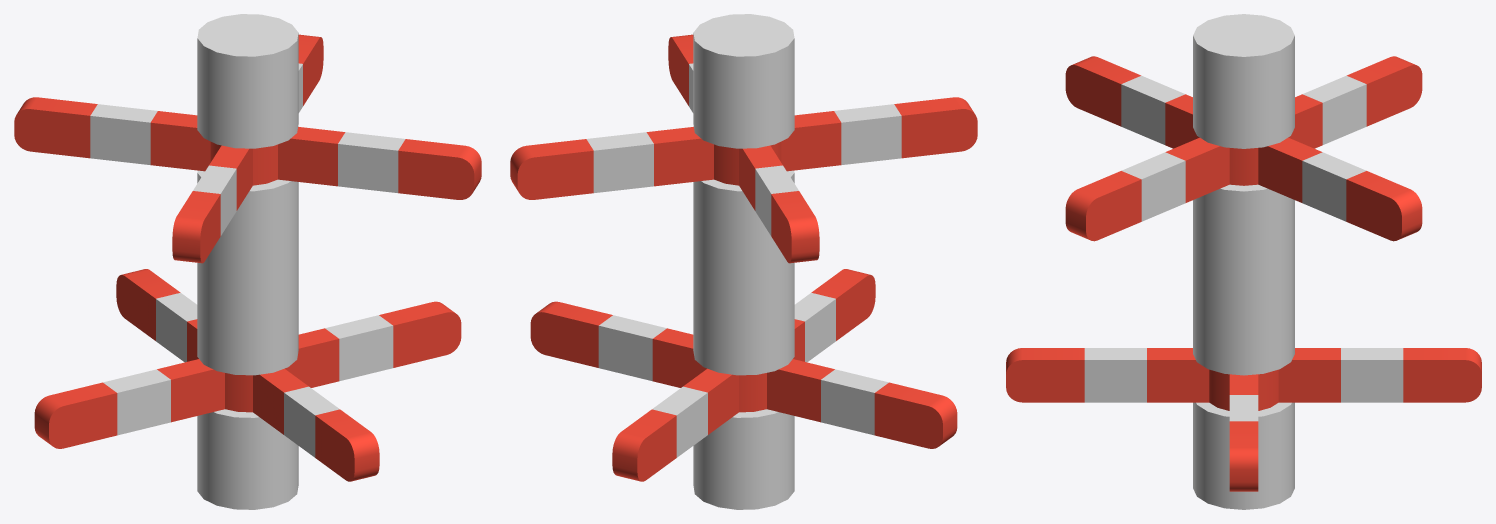
The model's file is Blades C Medium.fbx.
The picture shows the model from 3 angles, left to right: view 1: azimuth 30°, elevation 25°; view 2: azimuth 150°, elevation 25°; view 3: azimuth 270°, elevation 25°; orthographic projection.
Visible parts, largest first — view 1: Blades C Medium.002, Blades C Medium, Blades C Medium.001; view 2: Blades C Medium.002, Blades C Medium, Blades C Medium.001; view 3: Blades C Medium.002, Blades C Medium.001, Blades C Medium.
Boxes of the visible parts, x1,y1,x2,y2 form: Blades C Medium.002: (197, 14, 298, 509); Blades C Medium: (34, 269, 461, 481); Blades C Medium.001: (14, 34, 481, 263); Blades C Medium.002: (693, 14, 794, 509); Blades C Medium: (530, 269, 957, 481); Blades C Medium.001: (510, 34, 977, 263); Blades C Medium.002: (1193, 14, 1294, 509); Blades C Medium.001: (1065, 56, 1422, 241); Blades C Medium: (1006, 348, 1481, 491).
Bounding box in the file's own units: 200 × 210 × 200.
